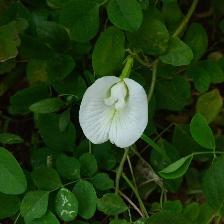shankupushpam: (77, 75, 152, 151)
